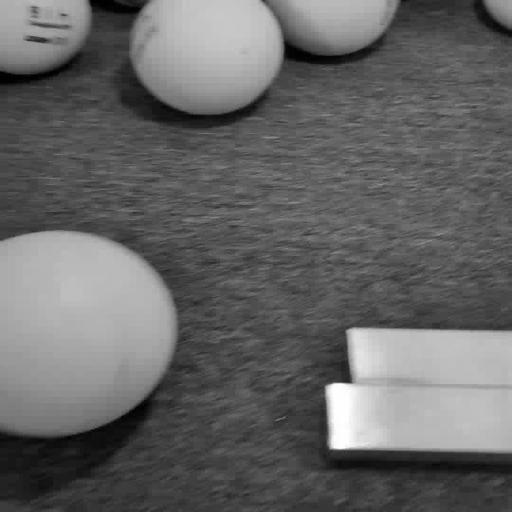fuel: (0, 231, 177, 437)
